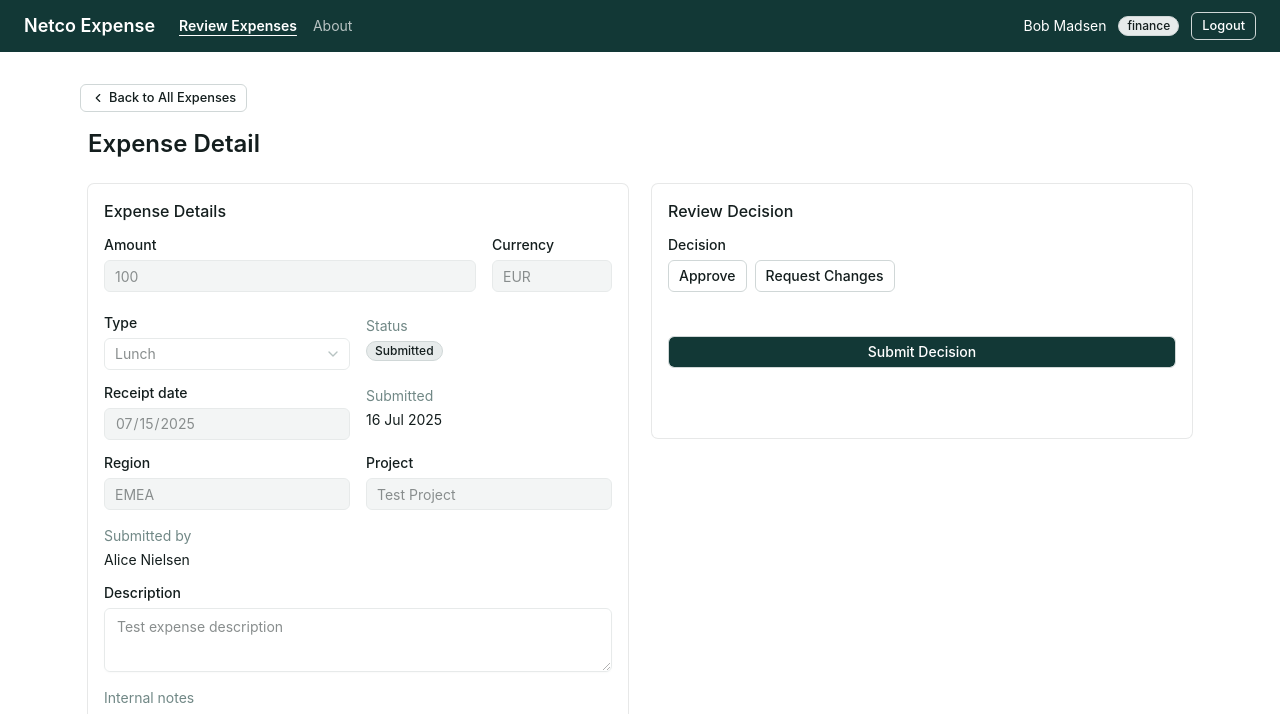
review decision form integration › disables the form after a successful submission
Click the button "Approve" at [707, 276], box [668,260,747,292]
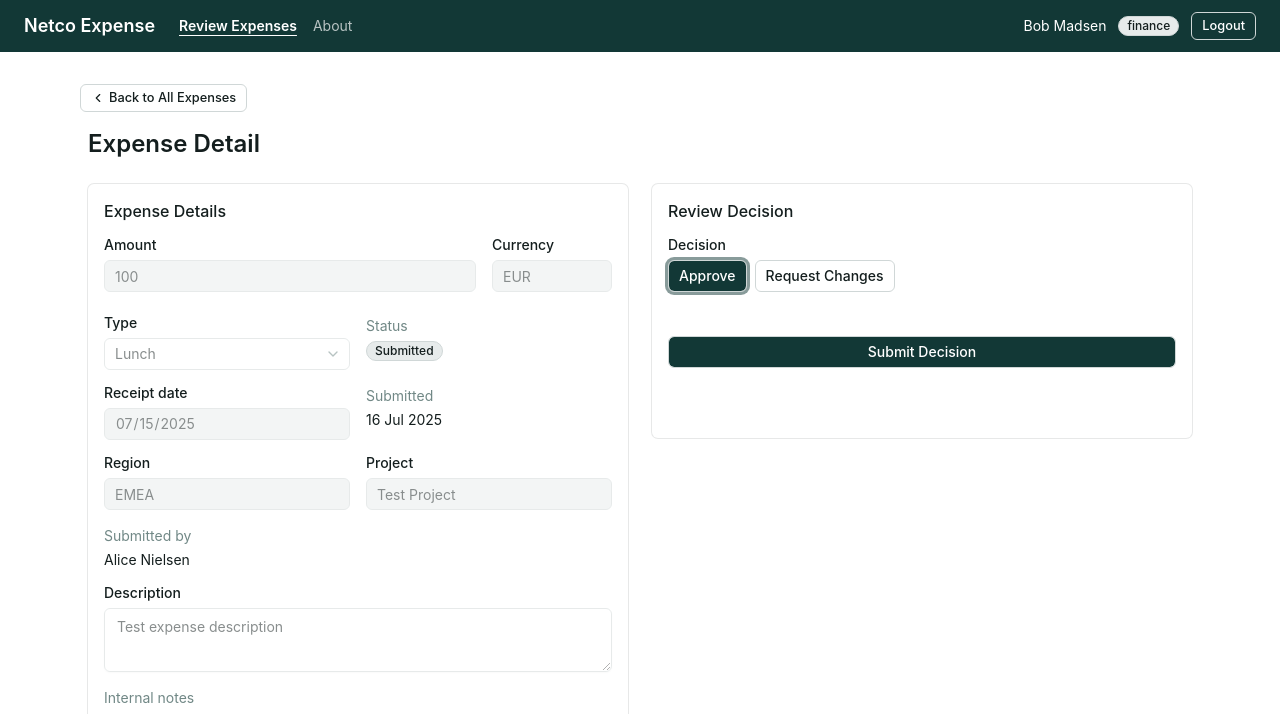
Click the button "Submit Decision" at [922, 352], box [668,336,1176,368]
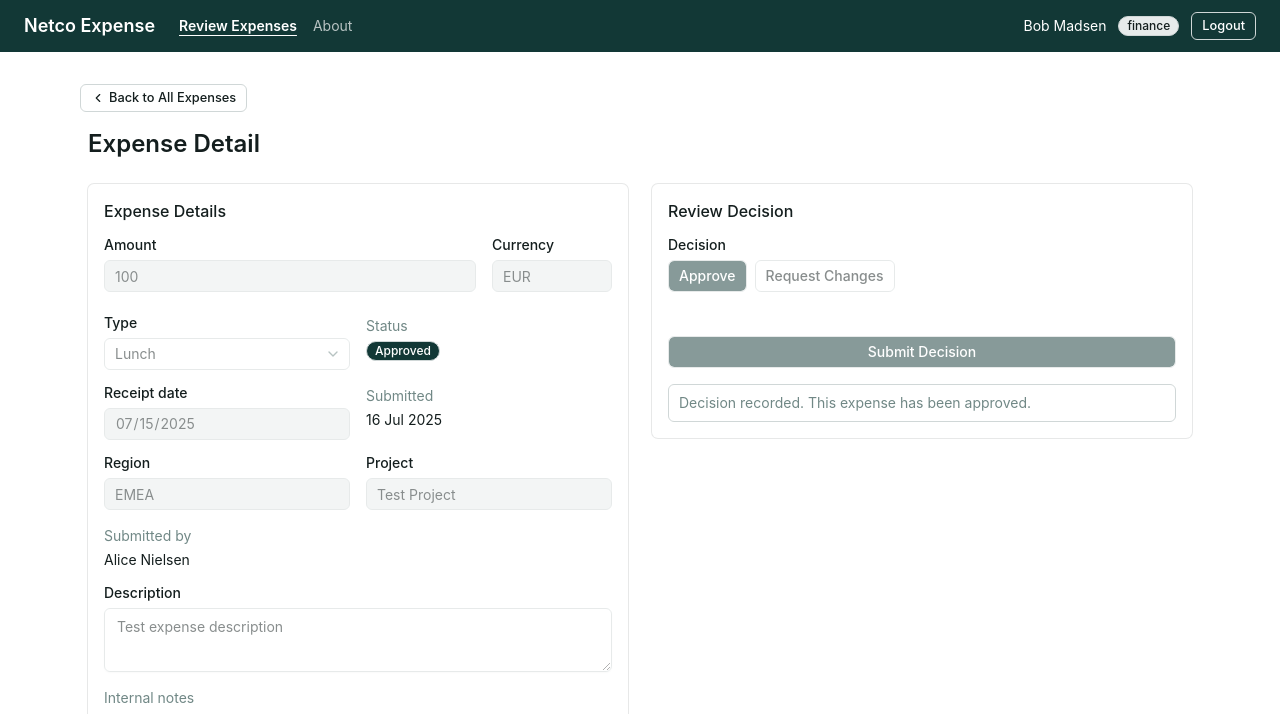
Check: the text "Approved" is shown, box [366,341,440,361]
Check: the button "Approve" is disabled, box [668,260,747,292]
Check: the button "Submit Decision" is disabled, box [668,336,1176,368]
